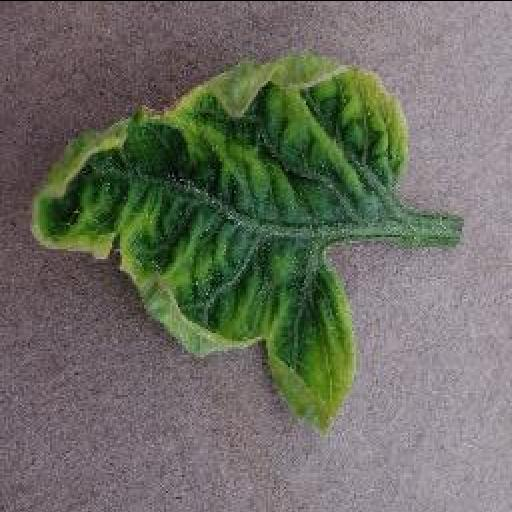disease_tomato: (26, 56, 406, 438)
